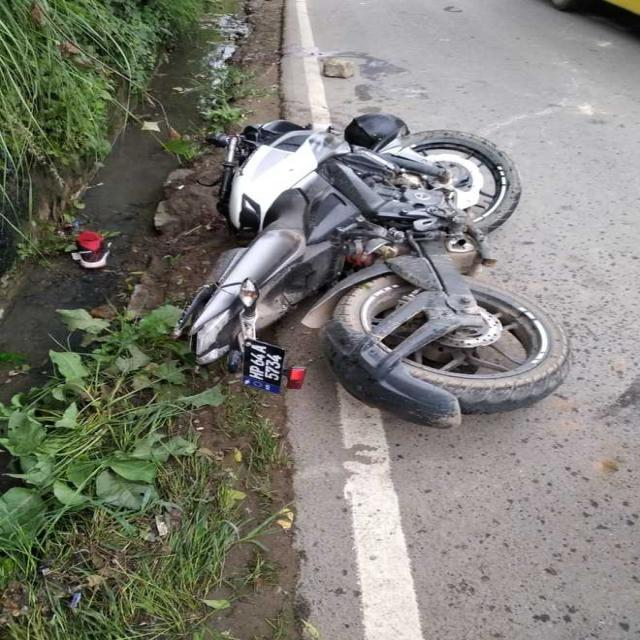accident: (173, 114, 570, 428)
